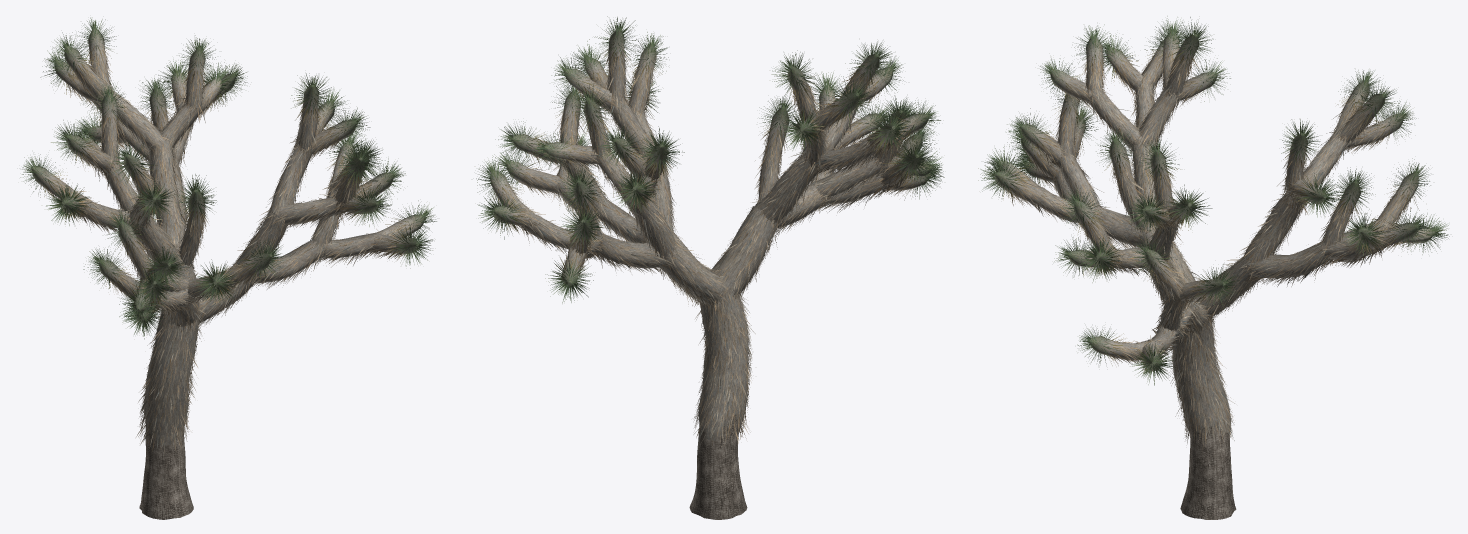
The model's file is joshua_d.glb.
3 views of the same model, side by side, from view 1: azimuth 30°, elevation 25°; view 2: azimuth 150°, elevation 25°; view 3: azimuth 270°, elevation 25° (orthographic). The views are drawn at different scales.
Visible parts, largest first — view 1: joshua_d; view 2: joshua_d; view 3: joshua_d.
Boxes of the visible parts, x1,y1,x2,y2 form: joshua_d: (20, 17, 436, 519); joshua_d: (476, 16, 944, 519); joshua_d: (978, 16, 1449, 519).
Bounding box in the file's own units: 8.57 × 8.89 × 8.39.
3 materials, 3 textured.
